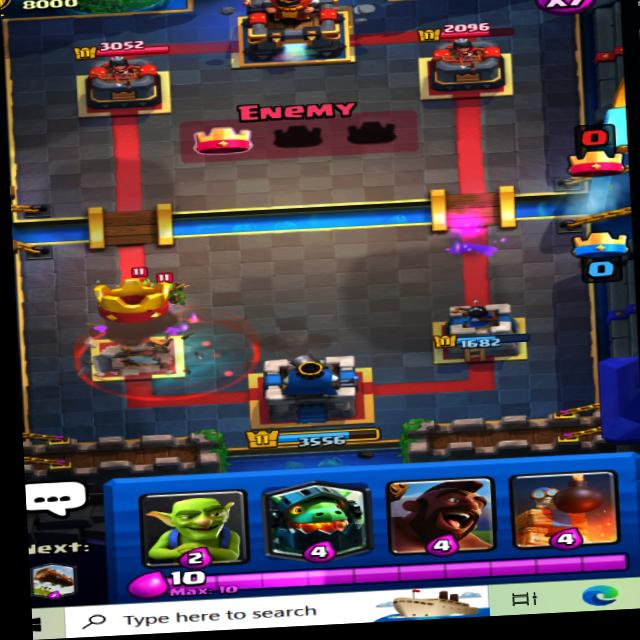clone: (76, 297, 272, 405)
